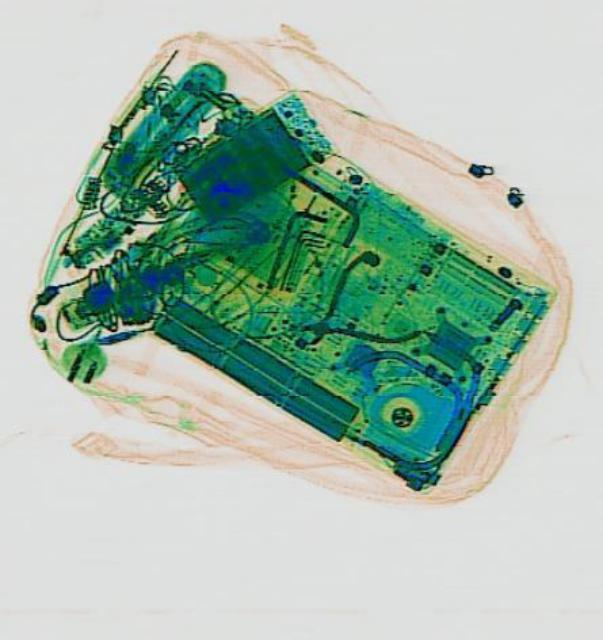Pliers: (280, 244, 419, 376)
